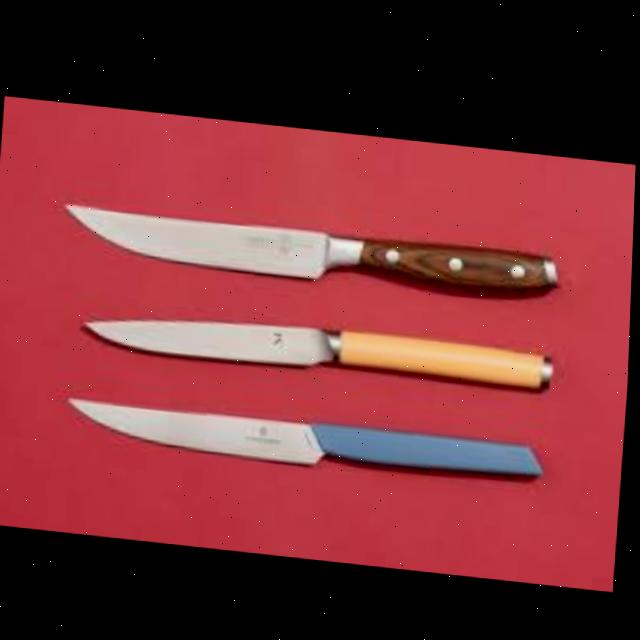knife: (61, 198, 560, 295), (65, 390, 548, 482), (81, 296, 556, 387)
